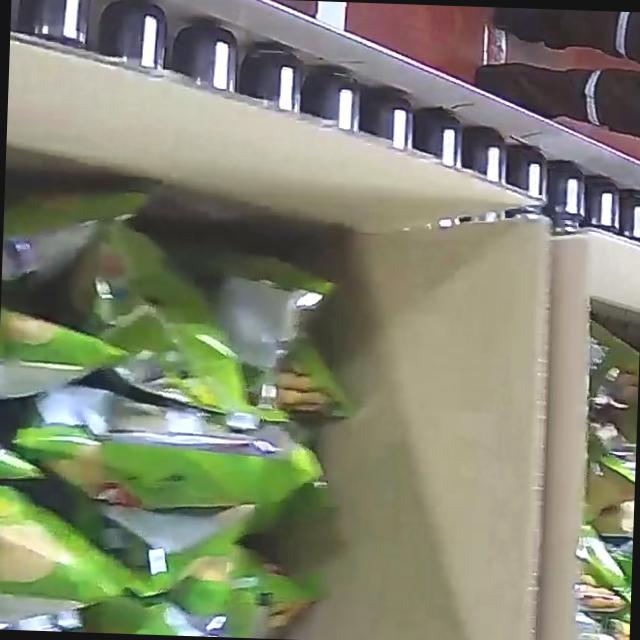yogurt: (0, 228, 369, 640), (573, 311, 640, 640)
